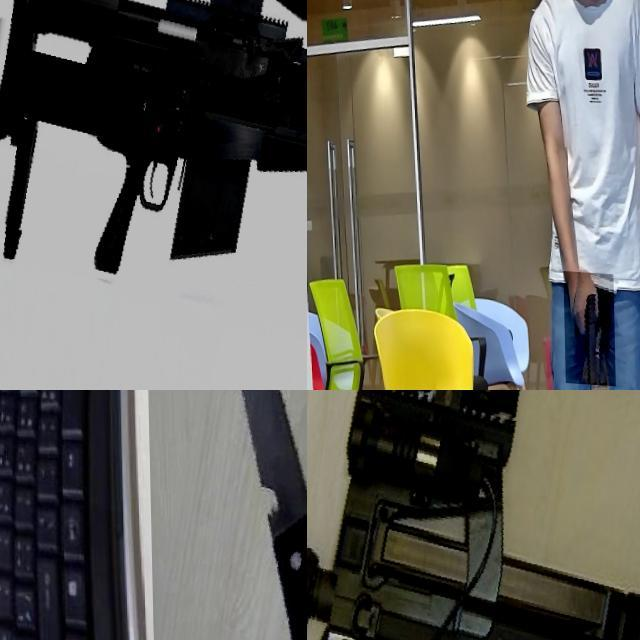-: (145, 390, 307, 640)
gun-knife-thesis - v11 Yolov5 augmented: (0, 0, 307, 390), (307, 390, 640, 640), (562, 266, 614, 382)
